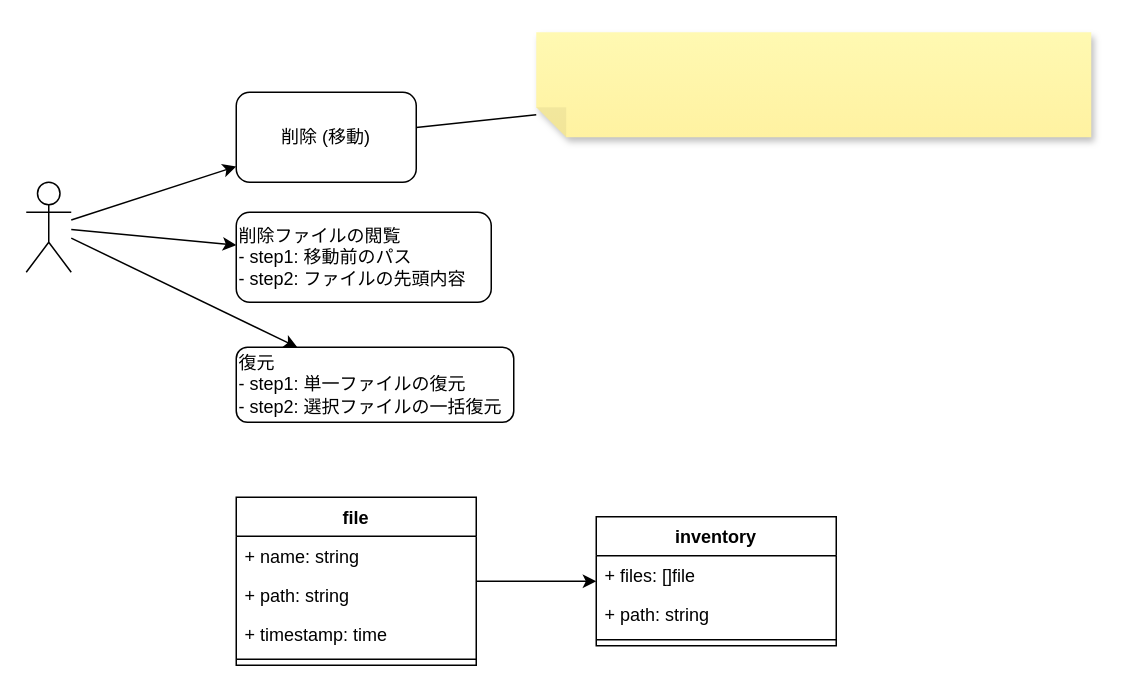
Some shapes in this 1127 by 692 pixel diagram are drawn without their labels. Here are the shapes that lost their labels. From the top down, the centre of each, then its label:
pixel 815 86: - 削除したら指定したファイルがそのままゴミ箱に移動される - 名前の重複があれば末尾に `.trash-yyyy-mm-dd-HHMMSS` を付与
pixel 48 226: Actor
